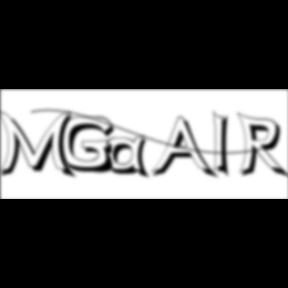A: (152, 116, 220, 182)
G: (62, 116, 120, 176)
M: (0, 108, 80, 181)
a: (107, 135, 155, 182)
l: (214, 108, 236, 182)
